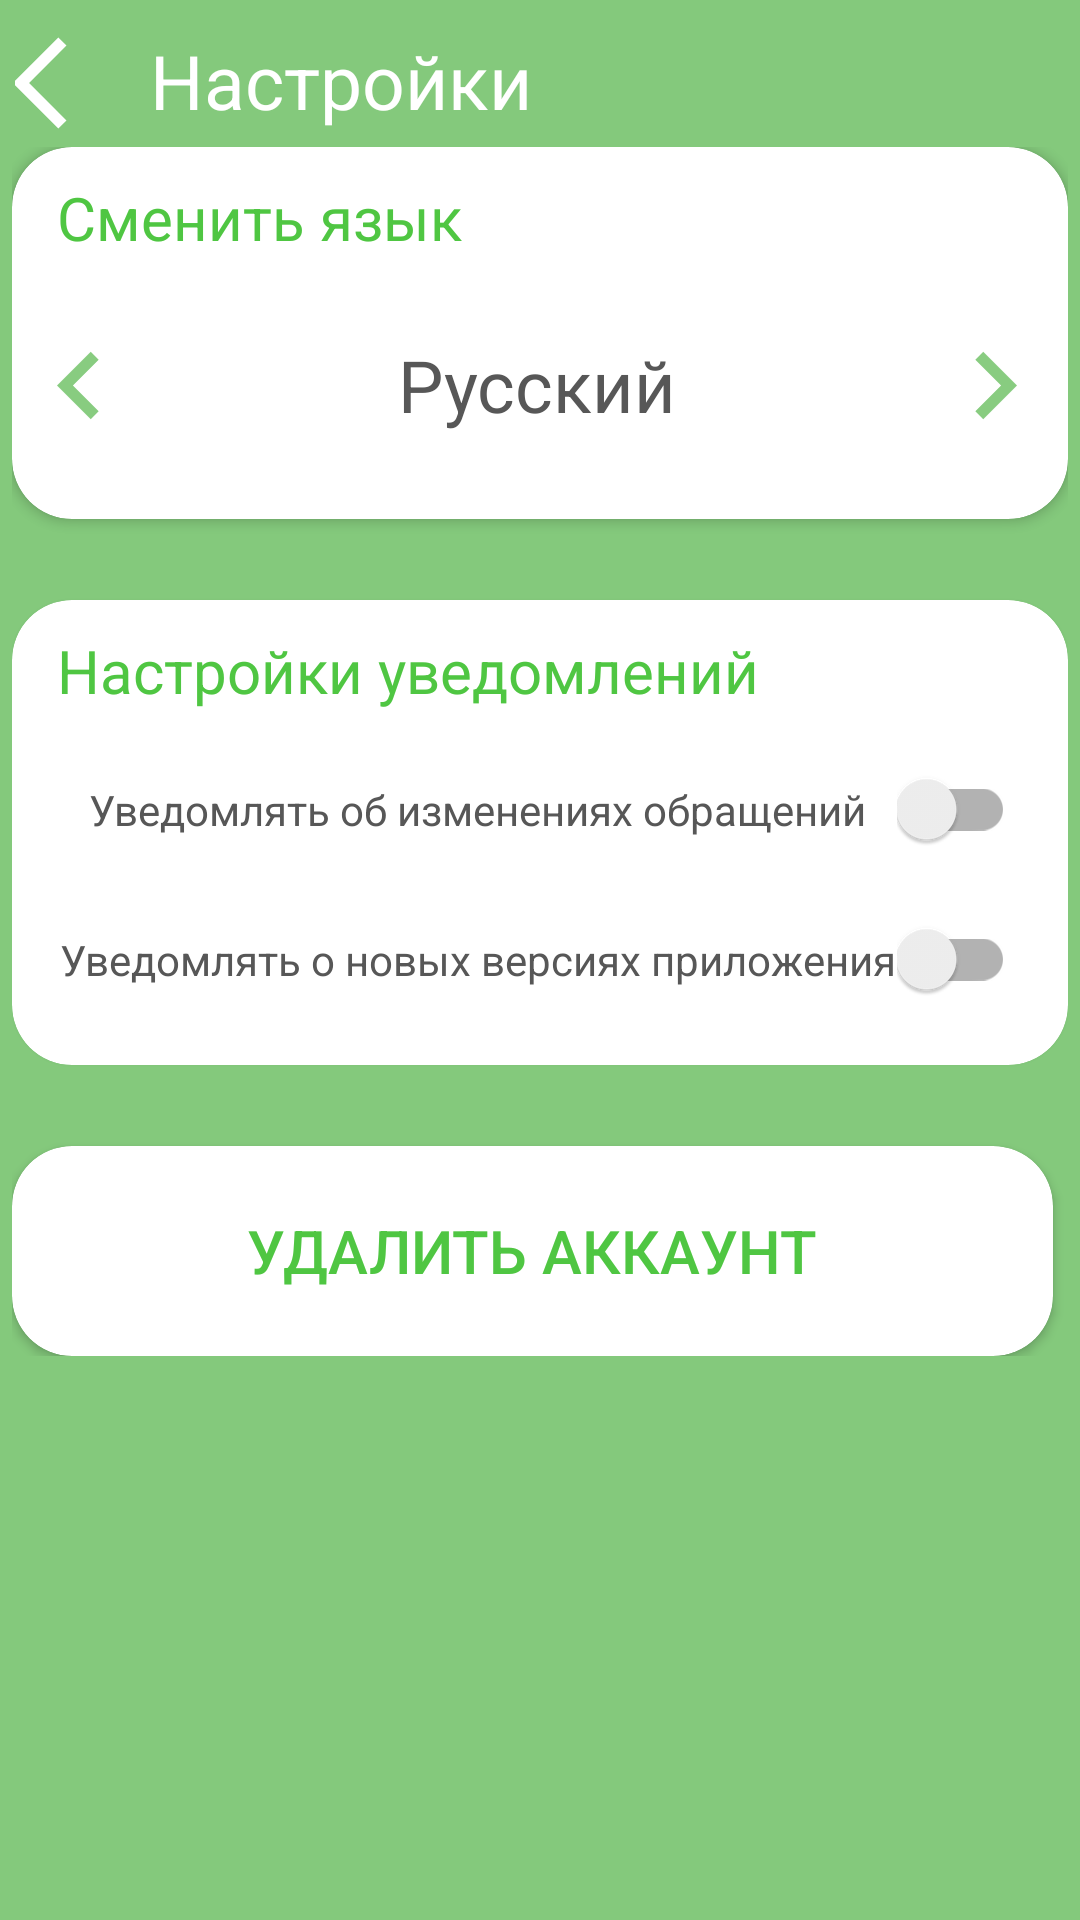

Icons on this 1080x1920 Android screen, each with its box as (x1, y1, x2, y2):
navigate before: (57, 352, 99, 419)
navigate next: (975, 352, 1017, 419)
